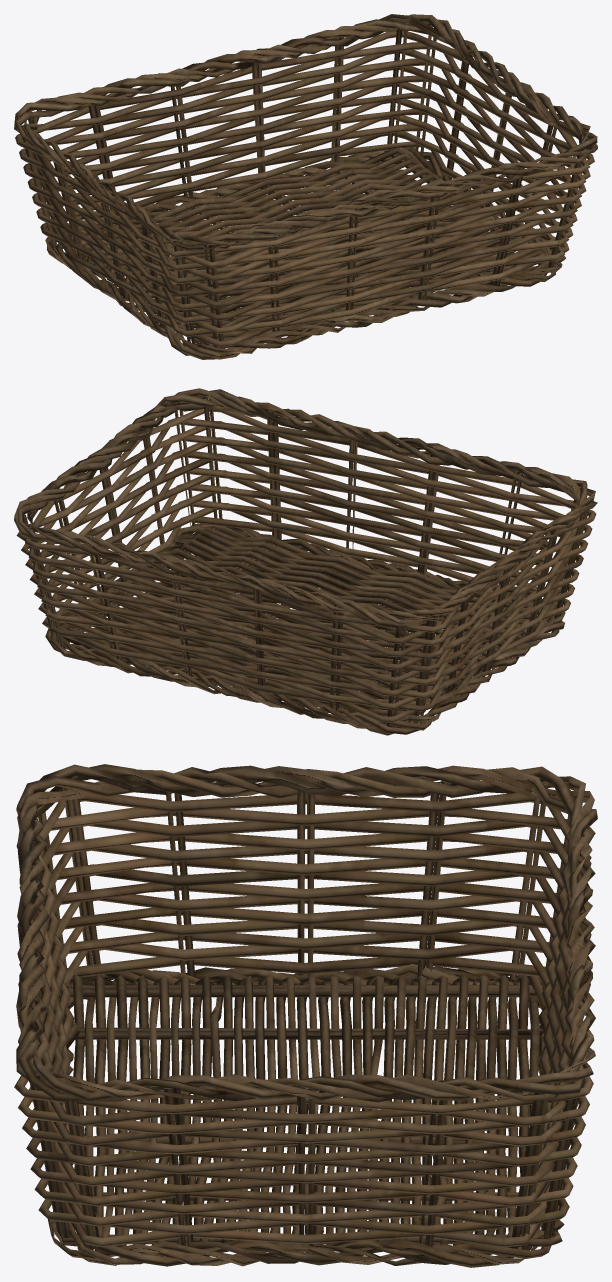
File: wicker_basket_01.glb
3 views of the same model, one above another, from view 1: azimuth 30°, elevation 25°; view 2: azimuth 150°, elevation 25°; view 3: azimuth 270°, elevation 25° (orthographic). The views are drawn at different scales.
Parts seen in each view (by area): view 1: wicker_basket_01; view 2: wicker_basket_01; view 3: wicker_basket_01.
Boxes of the visible parts, x1,y1,x2,y2 form: wicker_basket_01: [14, 14, 597, 359]; wicker_basket_01: [14, 388, 597, 735]; wicker_basket_01: [14, 764, 597, 1267].
Size of the model in its own units: 0.383 by 0.1174 by 0.2939.
1 material, 1 textured.
